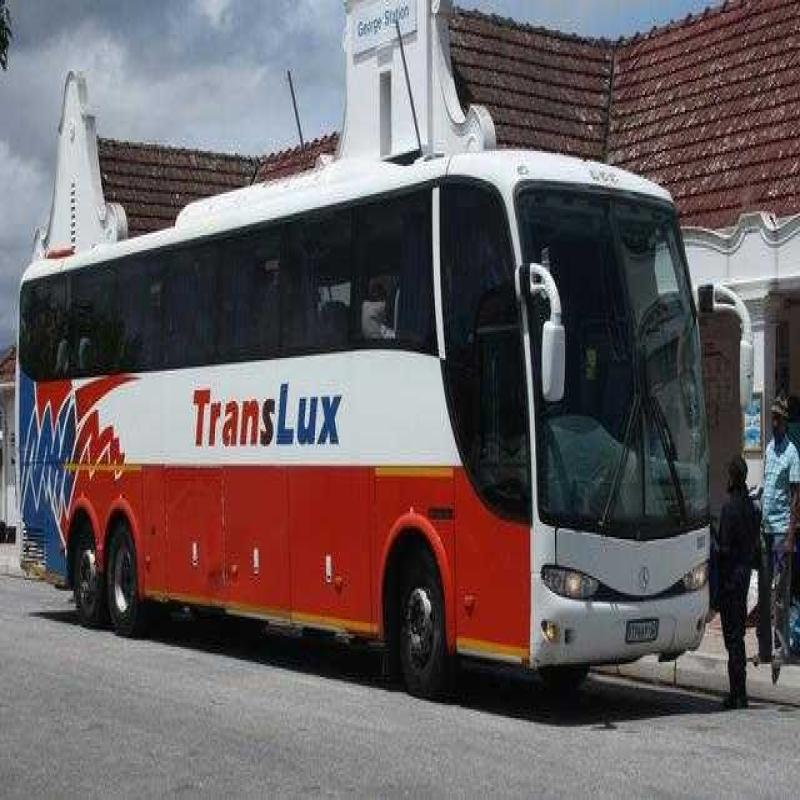bus: (23, 126, 719, 706)
